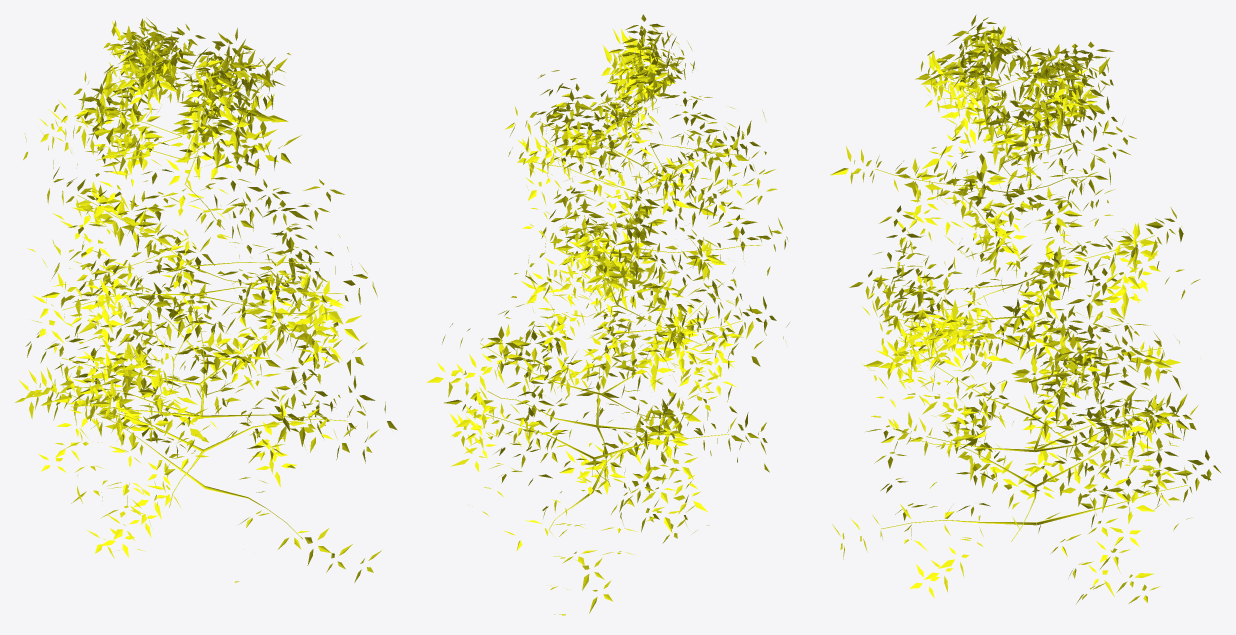
The model's file is real-tree2-leaves.glb.
3 renders of one model, left to right at view 1: azimuth 30°, elevation 25°; view 2: azimuth 150°, elevation 25°; view 3: azimuth 270°, elevation 25°, orthographic. The views are drawn at different scales.
Visible parts, largest first — view 1: PCR0003F_Untitled.036, PCR0013F_Untitled.010, PCR0015F_Untitled.058, PCR0008F_Untitled.038, PCR0018F_Untitled.013, PCR0023F_Untitled.039, PCR0002F_Untitled.005, PCR0004F_Untitled.032, PCR0010F_Untitled.054, PCR0016F_Untitled.020, PCR0007F_Untitled.041, PCR0019F_Untitled.028 (+18 smaller); view 2: PCR0015F_Untitled.058, PCR0002F_Untitled.005, PCR0018F_Untitled.013, PCR0016F_Untitled.020, PCR0009F_Untitled.052, PCR0012F_Untitled.021, PCR0008F_Untitled.038, PCR0022F_Untitled.035, PCR0030F_Untitled.055, PCR0010F_Untitled.054, PCR0007F_Untitled.041, PCR0026F_Untitled.007 (+17 smaller); view 3: PCR0031F_Untitled.031, PCR0013F_Untitled.010, PCR0003F_Untitled.036, PCR0011F_Untitled.008, PCR0018F_Untitled.013, PCR0004F_Untitled.032, PCR0017F_Untitled.011, PCR0002F_Untitled.005, PCR0006F_Untitled.045, PCR0015F_Untitled.058, PCR0021F_Untitled.030, PCR0029F_Untitled.042 (+17 smaller).
Boxes of the visible parts, box(x1,y1,x2,y2) form: PCR0003F_Untitled.036: box(103, 17, 186, 114); PCR0013F_Untitled.010: box(27, 128, 194, 297); PCR0015F_Untitled.058: box(213, 198, 377, 363); PCR0008F_Untitled.038: box(153, 28, 301, 169); PCR0018F_Untitled.013: box(83, 303, 250, 471); PCR0023F_Untitled.039: box(135, 246, 280, 393); PCR0002F_Untitled.005: box(174, 39, 287, 114); PCR0004F_Untitled.032: box(74, 88, 165, 236); PCR0010F_Untitled.054: box(162, 53, 273, 216); PCR0016F_Untitled.020: box(216, 238, 335, 402); PCR0007F_Untitled.041: box(192, 53, 290, 219); PCR0019F_Untitled.028: box(54, 203, 252, 353); PCR0015F_Untitled.058: box(521, 187, 687, 324); PCR0002F_Untitled.005: box(601, 14, 682, 111); PCR0018F_Untitled.013: box(635, 296, 789, 395); PCR0016F_Untitled.020: box(539, 204, 703, 364); PCR0009F_Untitled.052: box(609, 91, 760, 226); PCR0012F_Untitled.021: box(538, 176, 683, 325); PCR0008F_Untitled.038: box(505, 77, 638, 177); PCR0022F_Untitled.035: box(426, 273, 572, 446); PCR0030F_Untitled.055: box(530, 349, 687, 543); PCR0010F_Untitled.054: box(508, 101, 662, 267); PCR0007F_Untitled.041: box(526, 70, 638, 236); PCR0026F_Untitled.007: box(614, 333, 717, 532); PCR0031F_Untitled.031: box(1023, 417, 1220, 603); PCR0013F_Untitled.010: box(1029, 171, 1200, 346); PCR0003F_Untitled.036: box(993, 41, 1113, 118); PCR0011F_Untitled.008: box(917, 151, 1047, 293); PCR0018F_Untitled.013: box(888, 273, 1077, 426); PCR0004F_Untitled.032: box(922, 32, 1077, 183); PCR0017F_Untitled.011: box(953, 232, 1121, 360); PCR0002F_Untitled.005: box(915, 43, 1001, 124); PCR0006F_Untitled.045: box(992, 46, 1122, 207); PCR0015F_Untitled.058: box(879, 248, 1017, 426); PCR0021F_Untitled.030: box(1011, 300, 1148, 468); PCR0029F_Untitled.042: box(881, 382, 1029, 508).
Bounding box in the file's own units: 1.99 × 3.07 × 1.89.
